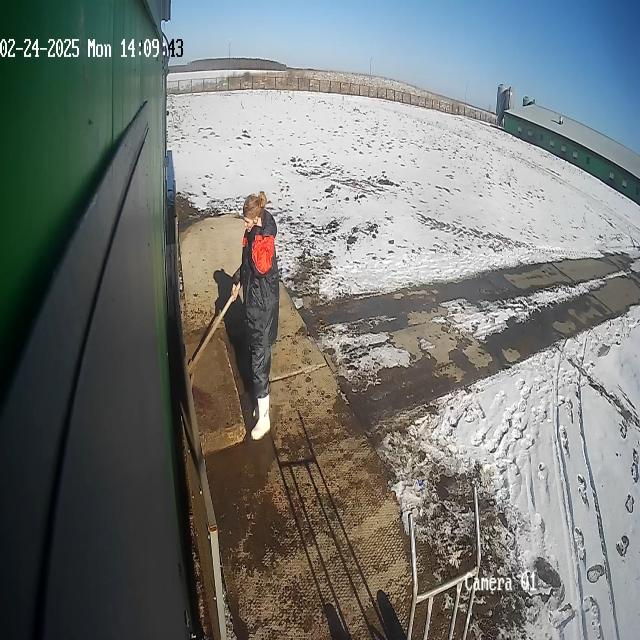Red uniform: (230, 190, 281, 443)
